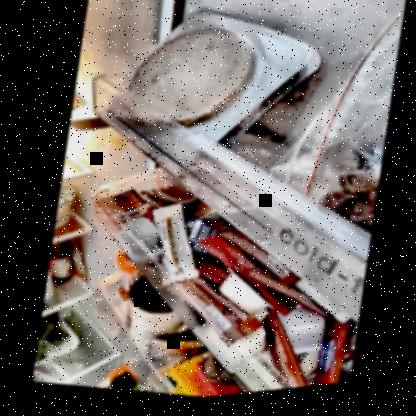salami: (114, 3, 288, 166)
